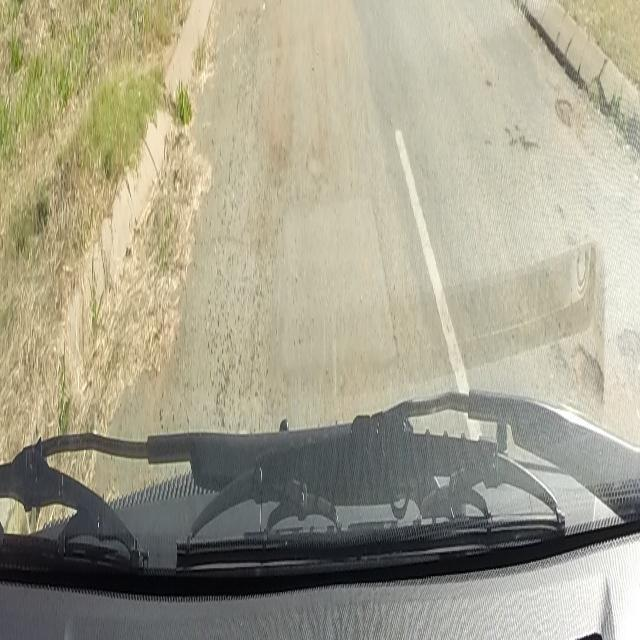pothole: (570, 337, 606, 425), (553, 89, 574, 129)
